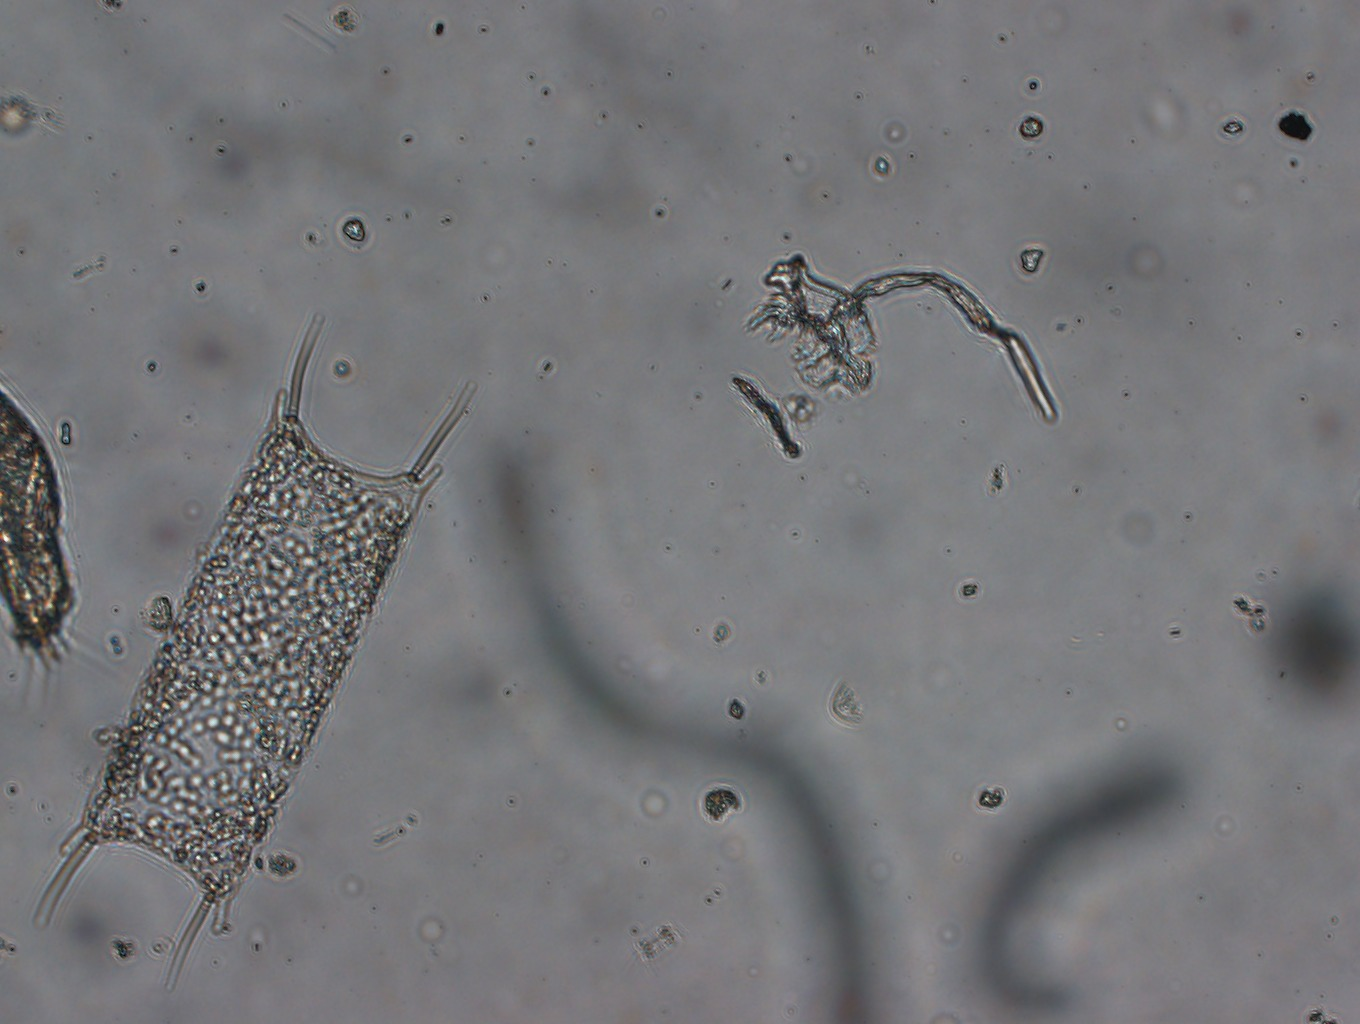biddulphia: (24, 319, 495, 981)
